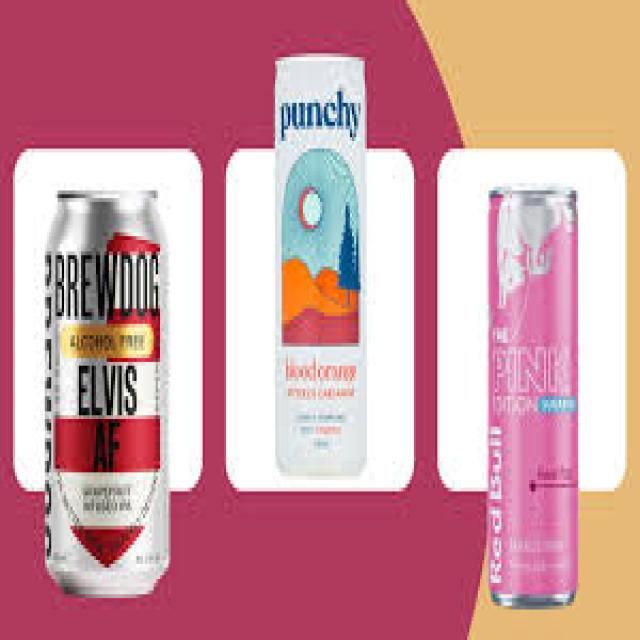Cans: (36, 172, 184, 614), (273, 42, 380, 488), (484, 172, 589, 614)
